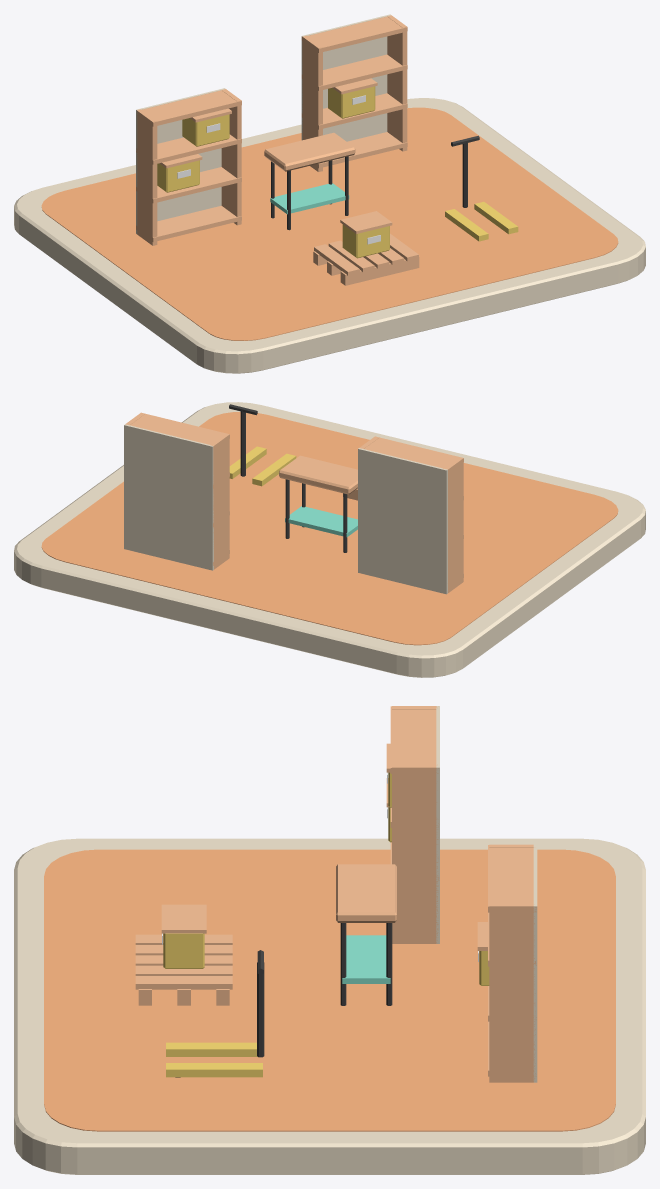
The model's file is room.fbx.
3 renders of one model, top to bottom at view 1: azimuth 30°, elevation 25°; view 2: azimuth 150°, elevation 25°; view 3: azimuth 270°, elevation 25°, orthographic. The views are drawn at different scales.
Visible parts, largest first — view 1: COM-02 Floor Surface, COM-01 Rounded Base Direct, Back.001, Back, Side, Worktop, Side.002, Side.003, Shelf.003, Shelf.007, Side.001, Shelf (+15 smaller); view 2: COM-02 Floor Surface, COM-01 Rounded Base Direct, Back, Back.001, Side.002, Worktop, Side, Shelf.003, Shelf.007, Lower shelf, Fork, Fork.001; view 3: COM-02 Floor Surface, COM-01 Rounded Base Direct, Side.003, Side.001, Worktop, Shelf.003, Shelf.007, Lower shelf, Box.003, Fork.001, Lid.003, Fork (+5 smaller).
Boxes of the visible parts, left/top/right/bottom form: COM-02 Floor Surface: left=41, top=107, right=618, bottom=340; COM-01 Rounded Base Direct: left=14, top=98, right=645, bottom=373; Back.001: left=301, top=14, right=390, bottom=141; Back: left=136, top=88, right=225, bottom=234; Side: left=137, top=109, right=157, bottom=245; Worktop: left=264, top=132, right=355, bottom=171; Side.002: left=302, top=35, right=322, bottom=171; Side.003: left=387, top=15, right=407, bottom=151; Shelf.003: left=137, top=90, right=241, bottom=126; Shelf.007: left=301, top=16, right=407, bottom=52; Side.001: left=221, top=89, right=241, bottom=225; Shelf: left=136, top=205, right=241, bottom=242; COM-02 Floor Surface: left=41, top=412, right=618, bottom=645; COM-01 Rounded Base Direct: left=14, top=402, right=645, bottom=677; Back: left=358, top=448, right=447, bottom=594; Back.001: left=124, top=424, right=213, bottom=570; Side.002: left=210, top=433, right=229, bottom=569; Worktop: left=279, top=455, right=357, bottom=494; Side: left=443, top=457, right=463, bottom=593; Shelf.003: left=364, top=436, right=463, bottom=473; Shelf.007: left=130, top=412, right=229, bottom=446; Lower shelf: left=285, top=506, right=357, bottom=537; Fork: left=252, top=453, right=296, bottom=486; Fork.001: left=229, top=446, right=266, bottom=478; COM-02 Floor Surface: left=44, top=849, right=615, bottom=1131; COM-01 Rounded Base Direct: left=14, top=838, right=645, bottom=1174; Side.003: left=489, top=903, right=535, bottom=1082; Side.001: left=392, top=764, right=438, bottom=943; Worktop: left=336, top=864, right=396, bottom=922; Shelf.003: left=390, top=706, right=438, bottom=773; Shelf.007: left=488, top=845, right=536, bottom=912; Lower shelf: left=342, top=935, right=390, bottom=983; Box.003: left=163, top=933, right=204, bottom=968; Fork.001: left=166, top=1063, right=262, bottom=1077; Lid.003: left=161, top=904, right=206, bottom=933; Fork: left=166, top=1042, right=257, bottom=1056.
Bounding box in the file's own units: 600 × 190 × 520.
